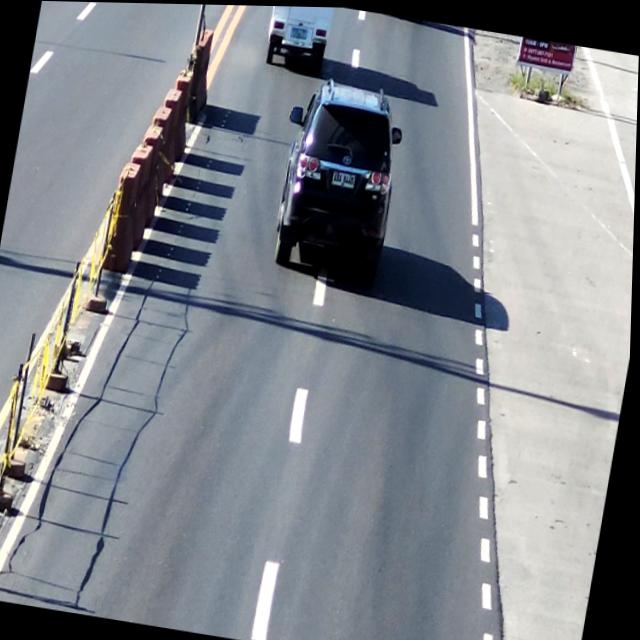Car: (261, 73, 418, 296)
License-Plate: (331, 167, 359, 191)
